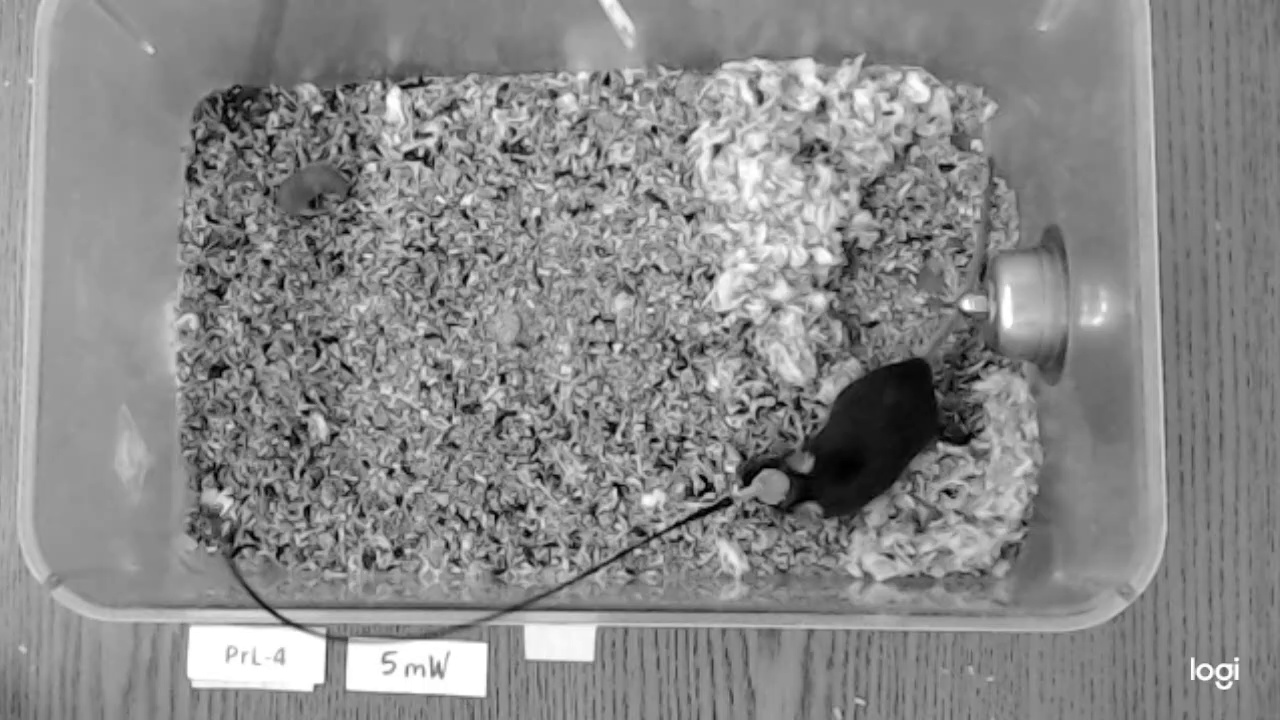child-mice: (272, 160, 350, 220)
